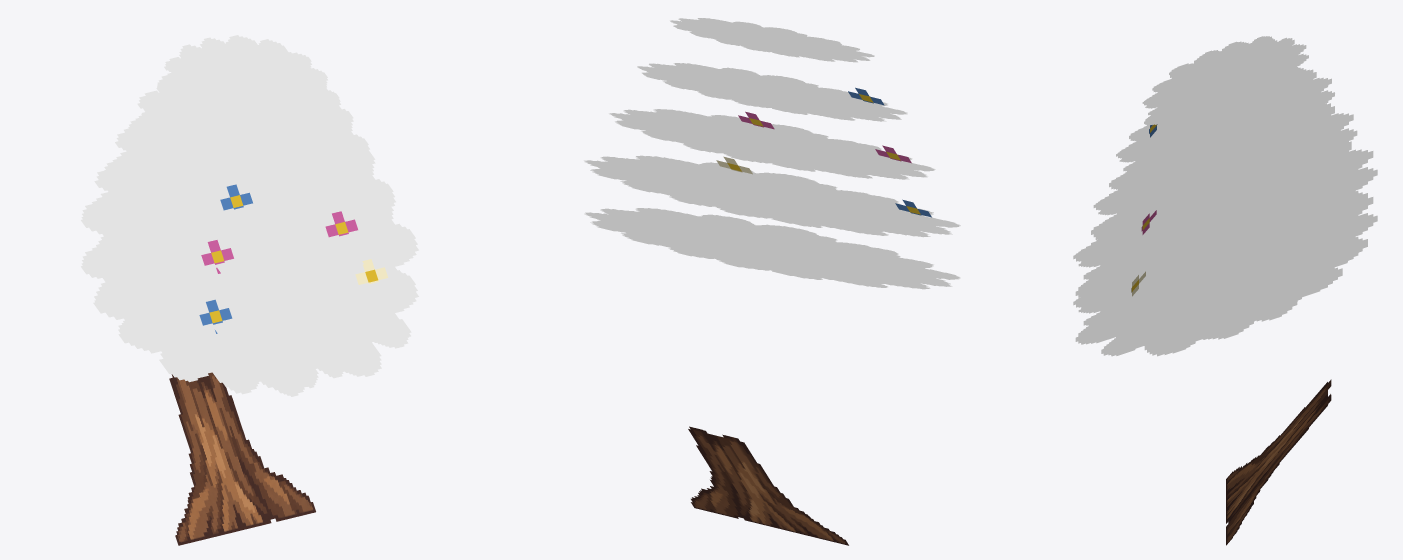
Rendered from SM_Stacked2D_Tree_B.fbx.
3 renders of one model, left to right at view 1: azimuth 30°, elevation 25°; view 2: azimuth 150°, elevation 25°; view 3: azimuth 270°, elevation 25°, orthographic. The views are drawn at different scales.
Visible parts, largest first — view 1: B_LeafTier_2, B_LeafTier_3, B_LeafTier_5, B_LeafTier_4, B_LeafTier_1, B_FlatTrunk; view 2: B_LeafTier_1, B_LeafTier_2, B_LeafTier_3, B_LeafTier_4, B_FlatTrunk, B_LeafTier_5; view 3: B_LeafTier_2, B_LeafTier_3, B_LeafTier_1, B_LeafTier_4, B_LeafTier_5, B_FlatTrunk.
Part boxes in pixels (<box>): B_LeafTier_2: <box>81,150,418,350</box>; B_LeafTier_3: <box>103,110,395,288</box>; B_LeafTier_5: <box>156,35,340,159</box>; B_LeafTier_4: <box>127,75,370,225</box>; B_LeafTier_1: <box>81,231,418,396</box>; B_FlatTrunk: <box>169,372,315,545</box>; B_LeafTier_1: <box>584,208,960,289</box>; B_LeafTier_2: <box>584,155,960,237</box>; B_LeafTier_3: <box>609,109,935,179</box>; B_LeafTier_4: <box>637,63,907,121</box>; B_FlatTrunk: <box>688,426,848,545</box>; B_LeafTier_5: <box>670,18,874,62</box>; B_LeafTier_2: <box>1073,141,1377,310</box>; B_LeafTier_3: <box>1093,103,1357,252</box>; B_LeafTier_1: <box>1073,197,1377,356</box>; B_LeafTier_4: <box>1116,69,1334,193</box>; B_LeafTier_5: <box>1142,36,1308,131</box>; B_FlatTrunk: <box>1226,379,1331,545</box>.
Bounding box in the file's own units: 308 × 289 × 449.
7 materials, 2 textured.
